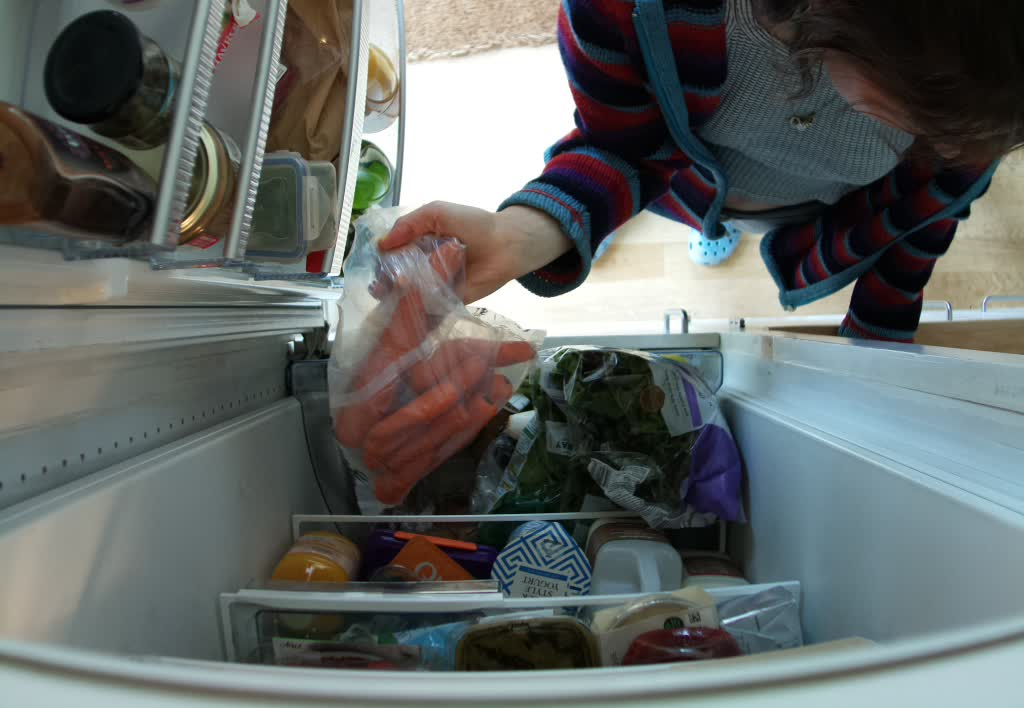carrot: (338, 236, 540, 505)
